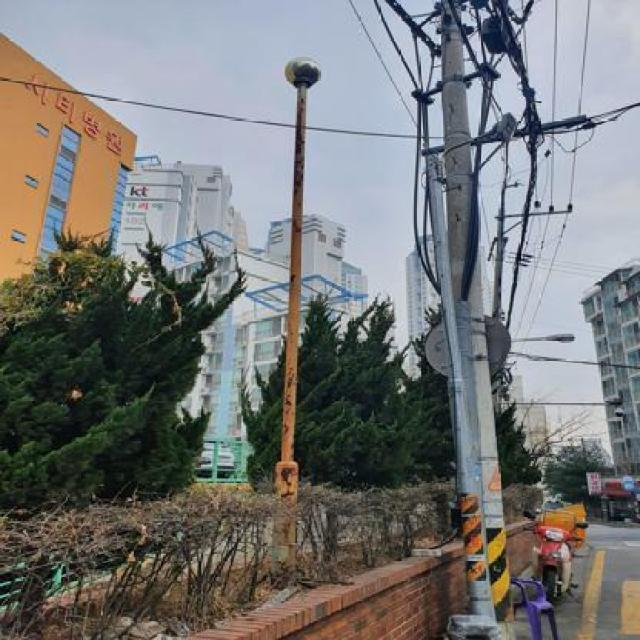pole: (262, 52, 329, 591)
